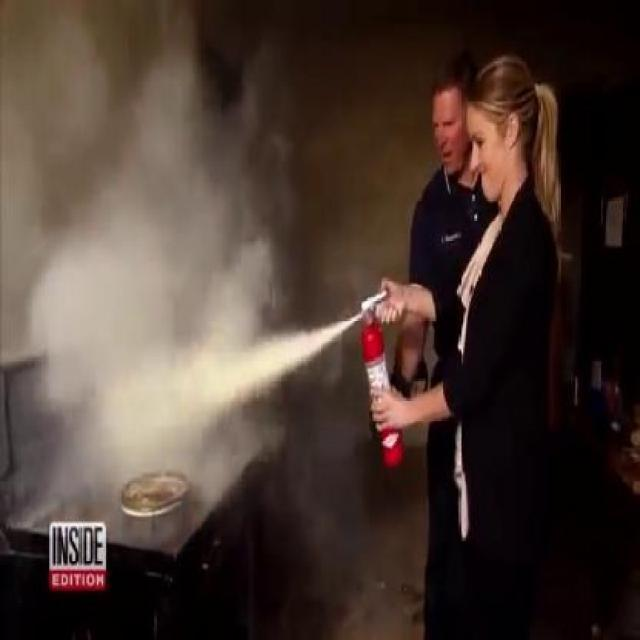smoke: (50, 76, 244, 255), (56, 300, 136, 398), (200, 300, 248, 331)
